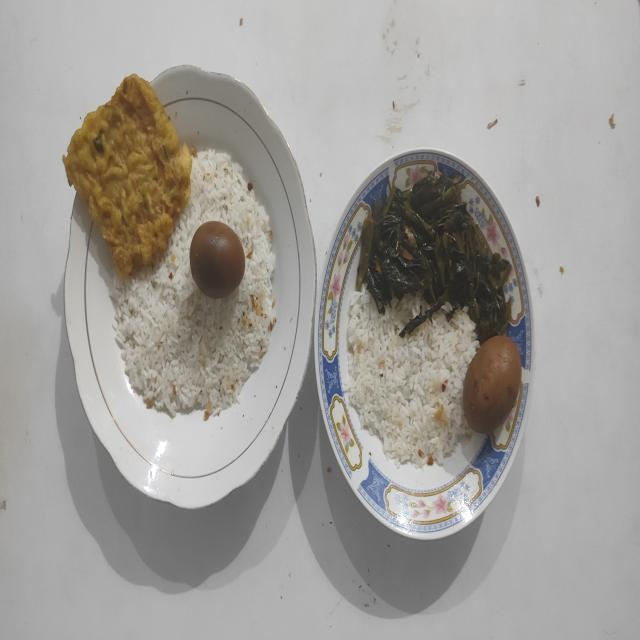nasi_putih: (110, 150, 278, 418), (342, 290, 479, 468)
tumis_kangkung: (357, 171, 511, 340)
